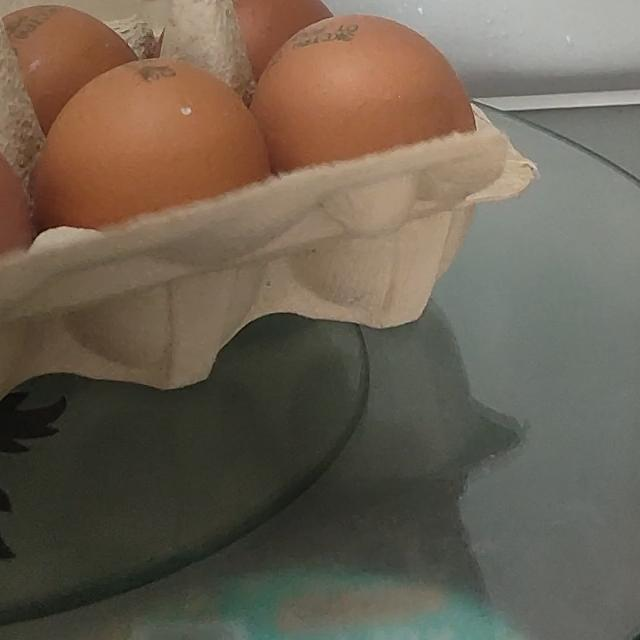egg: (0, 0, 538, 483)
